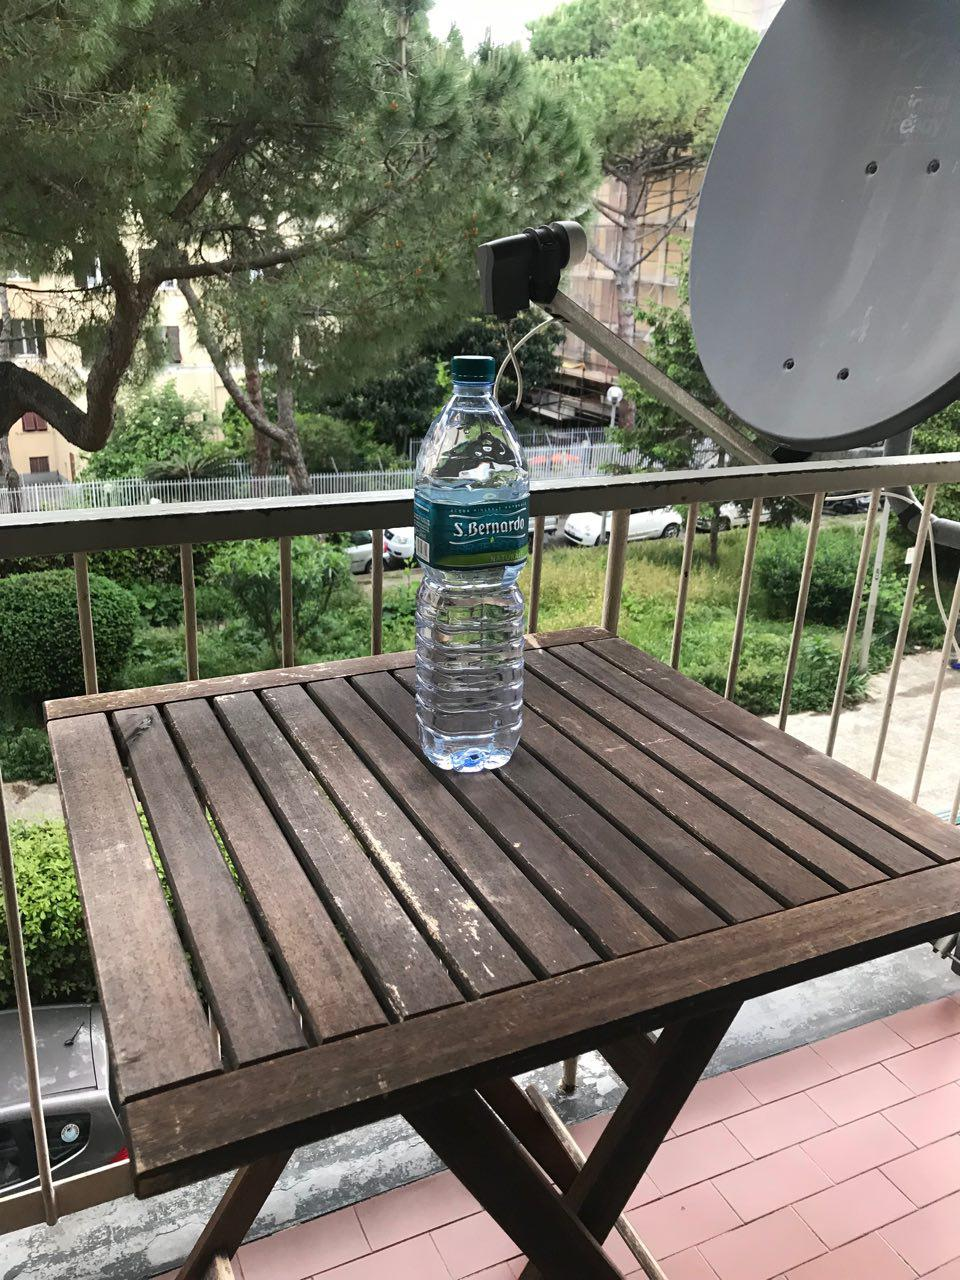san_bernardo: (413, 353, 530, 773)
